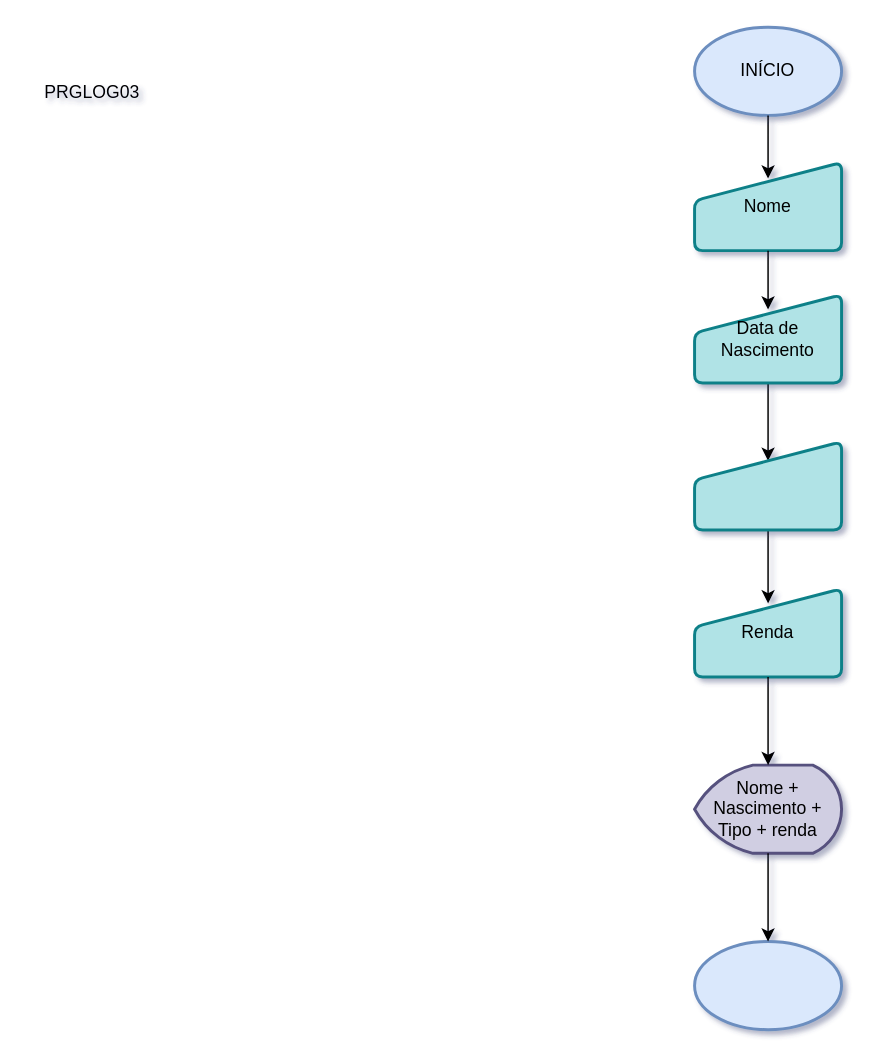
This 876x1064 diagram has some shape labels left out. The shapes that lost their labels are listed below. From the top down, each one's centre as x and y in pixels, then its label:
point 767,485: Tipo Sanguineo
point 767,984: FIM
